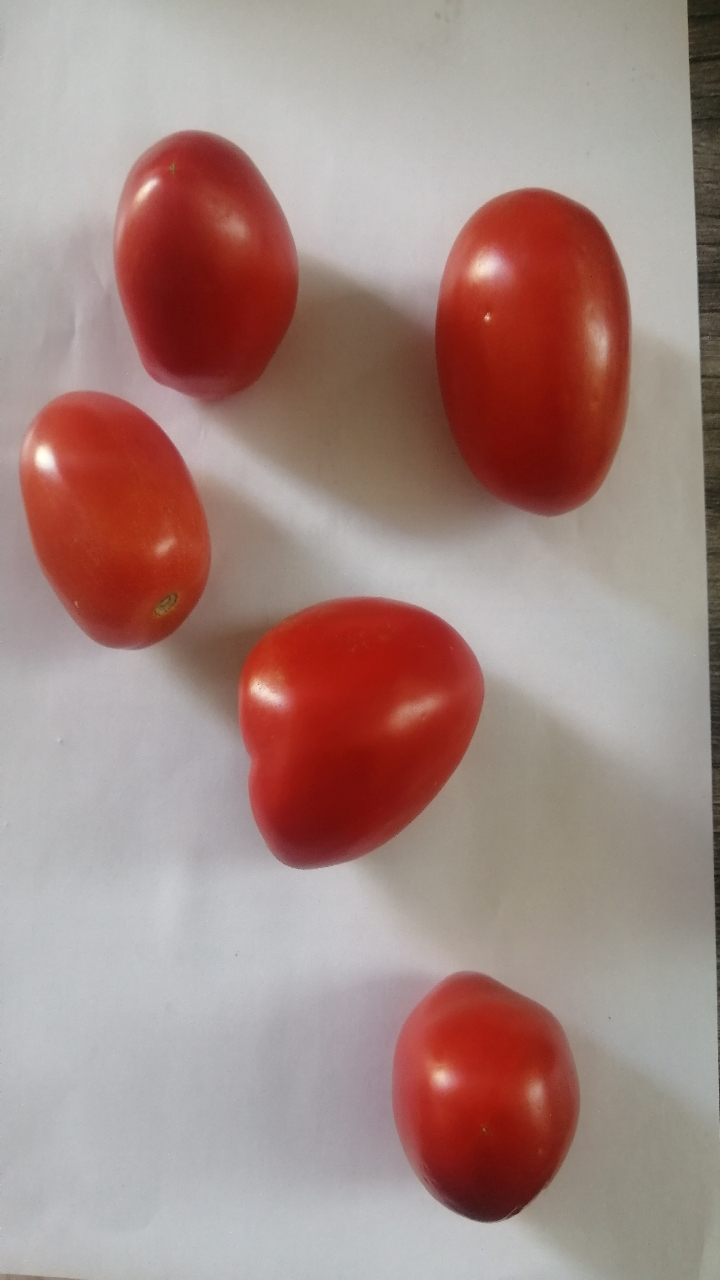tomateRojo: (221, 577, 489, 908), (409, 162, 643, 531), (86, 106, 304, 412), (372, 954, 598, 1242), (3, 379, 221, 671)
